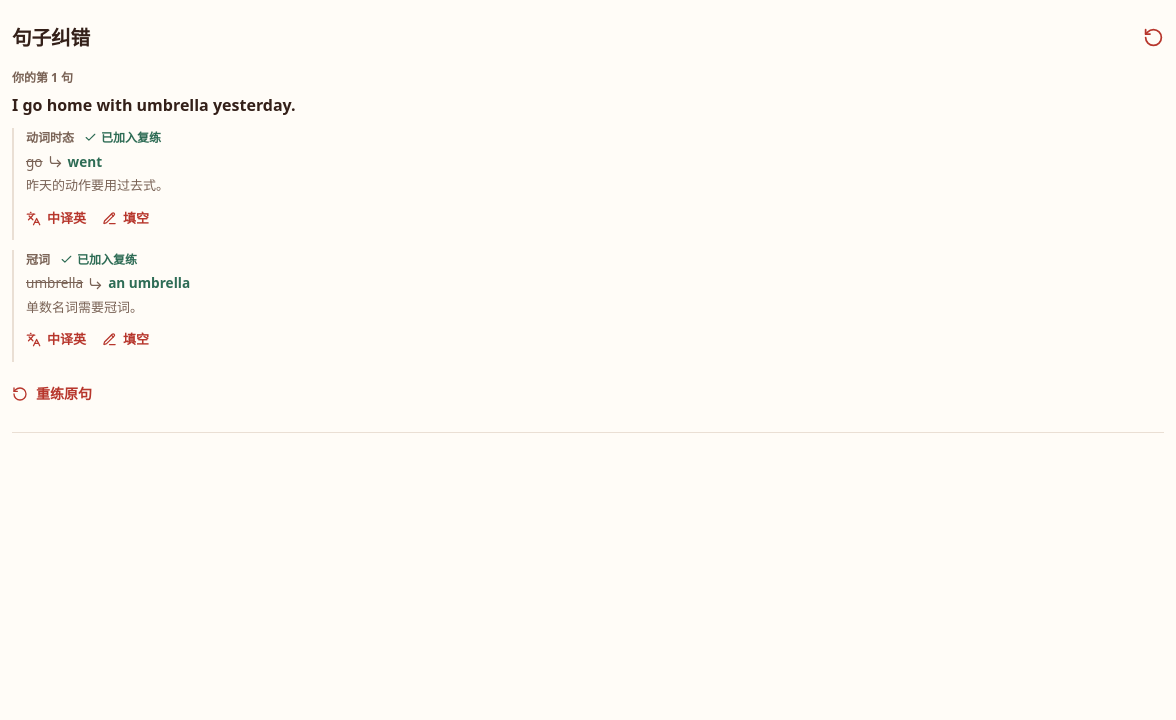
Scenario: uses the Chinese translation of the corrected line and grades a paraphrase against the selected change
Click the button "中译英" below "昨天的动作要用过去式。": (56, 218) left=26, top=196, right=86, bottom=240
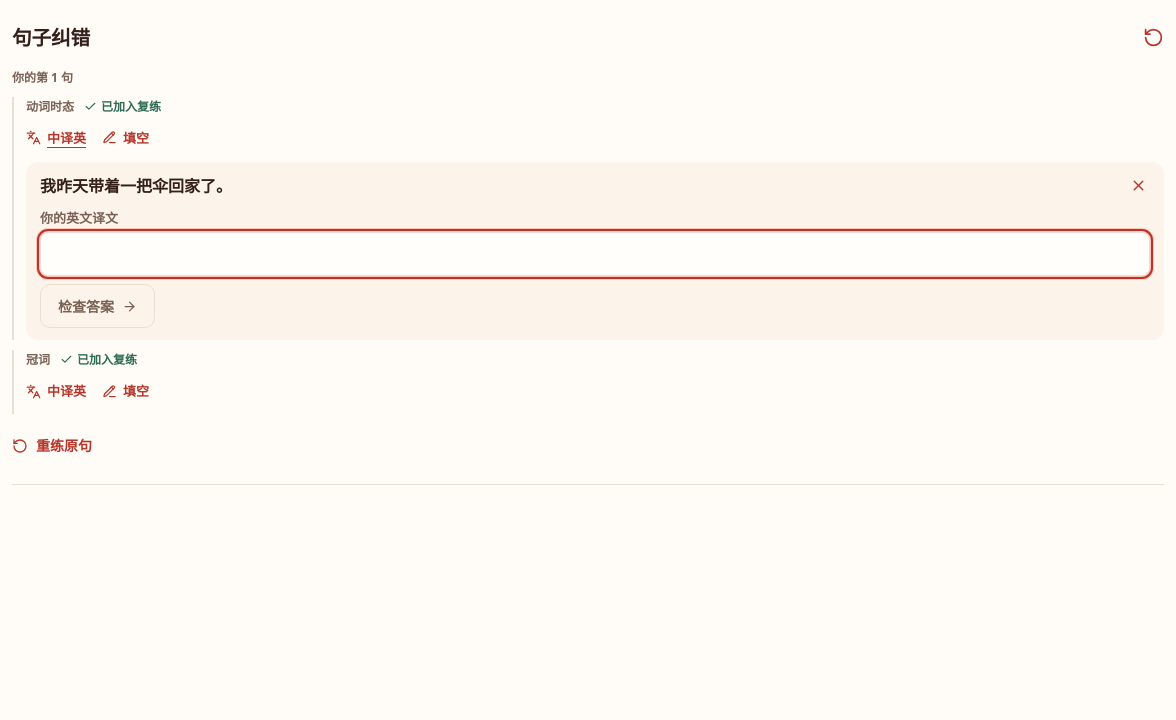
Result: the text "我昨天带着一把伞回家了。" is shown at left=40, top=175, right=232, bottom=197
Result: the button "went" is gone
In the field: (595, 254) left=40, top=232, right=1150, bottom=276, type "Yesterday I returned home with an umbrella."
Then press Enter
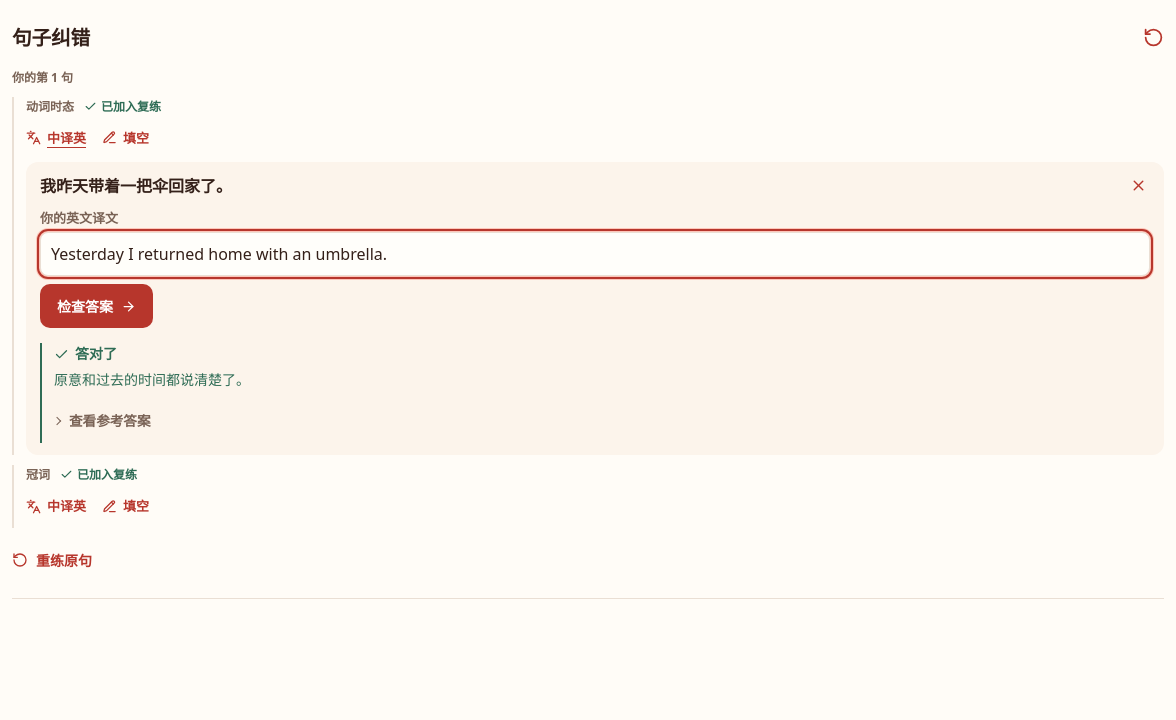
Result: the text "我昨天带着一把伞回家了。" is shown at left=40, top=175, right=232, bottom=197
Result: the text "原意和过去的时间都说清楚了。" is shown at left=54, top=370, right=250, bottom=389
